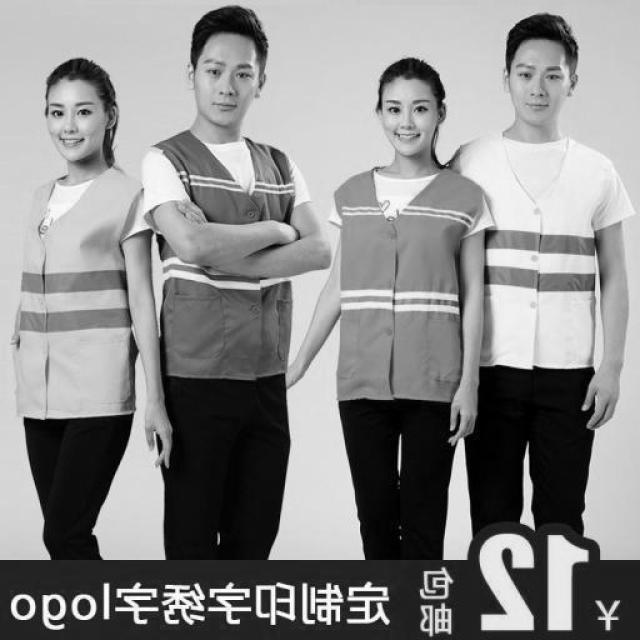face_nomask: (195, 59, 261, 120), (508, 59, 568, 120), (47, 100, 99, 156), (384, 95, 434, 146)
hand_noglove: (578, 366, 626, 432), (444, 374, 484, 446), (142, 408, 176, 472)
head_nohelmet: (186, 0, 274, 51), (499, 12, 582, 58), (41, 54, 120, 94), (377, 54, 448, 92)
person: (425, 11, 633, 562), (138, 5, 330, 560), (296, 39, 494, 560), (0, 44, 176, 558)
vest: (332, 154, 482, 401), (458, 126, 606, 376), (158, 131, 296, 377), (17, 161, 139, 421)
